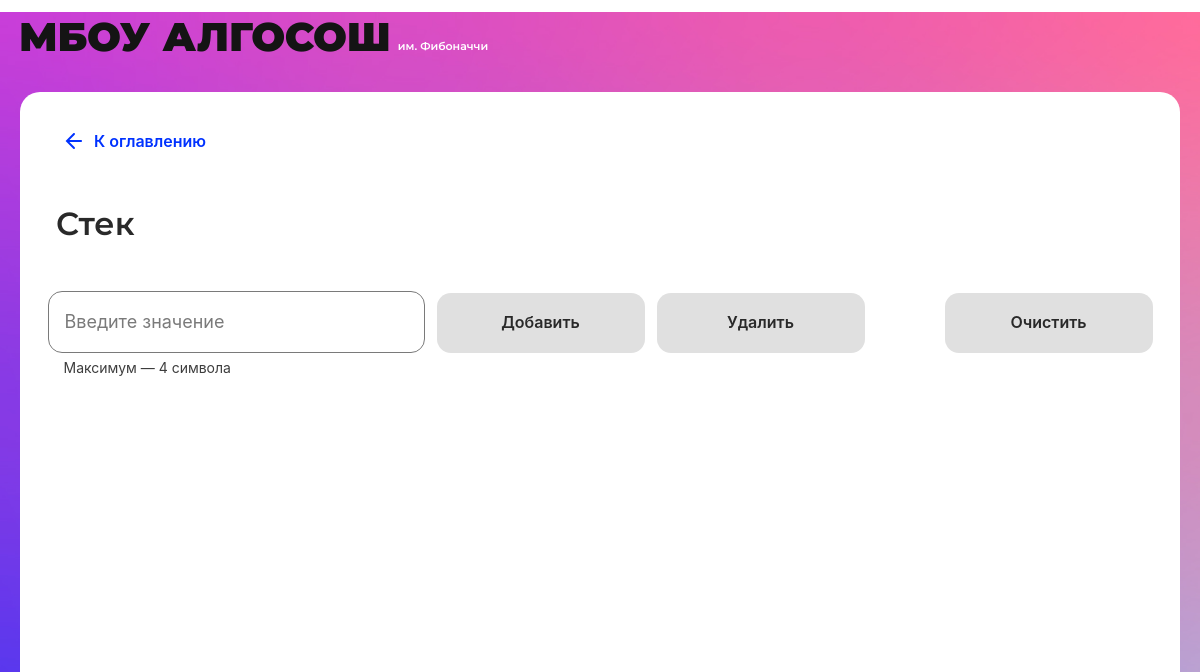
Test: Stack tests › should button be disabled while input is empty
Check: the heading "Стек" is shown, box [56,204,134,243]
Check: the button with test id "button-add" is disabled, box [437,293,645,353]
In the field with placeholder "Введите значение": (237, 322) [48,291,425,353], type "12"
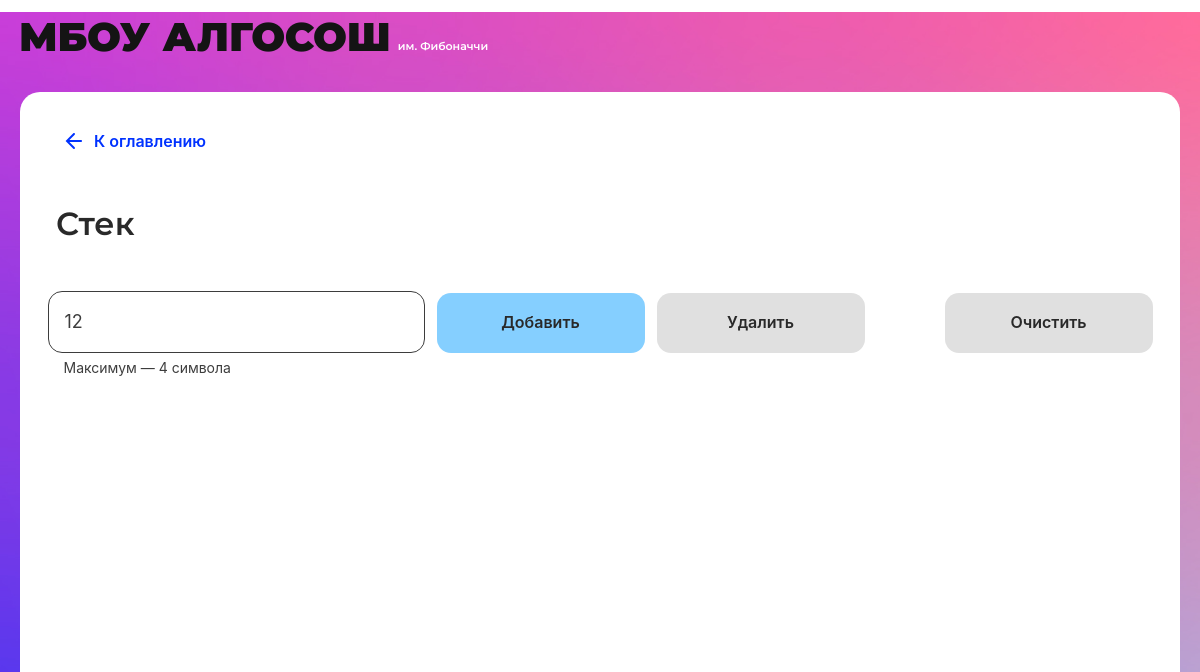
Check: the button with test id "button-add" is enabled, box [437,293,645,353]
